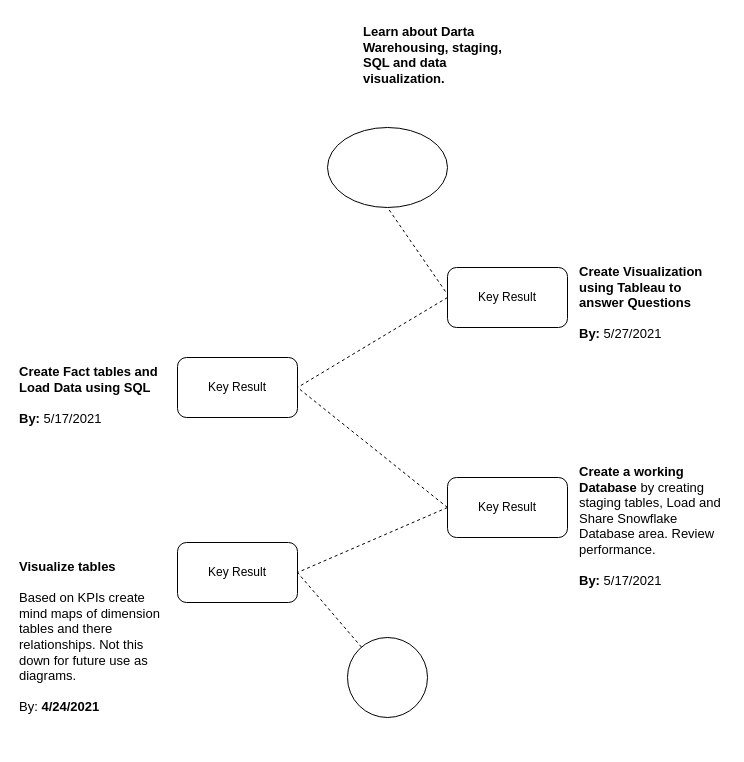
Some shapes in this 744 by 762 pixel diagram are drawn without their labels. The shapes that lost their labels are listed below. From the top down, each one's box as (x1, y1, x2, y2) in pixels, then its label:
(326, 126, 448, 208): Objective
(346, 636, 428, 718): Starting
